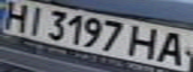1: (60, 11, 84, 45)
3: (42, 8, 69, 42)
7: (100, 17, 127, 53)
9: (81, 15, 106, 49)
A: (151, 29, 190, 65)
H: (124, 24, 166, 60), (0, 0, 33, 32)
I: (18, 3, 51, 36)
